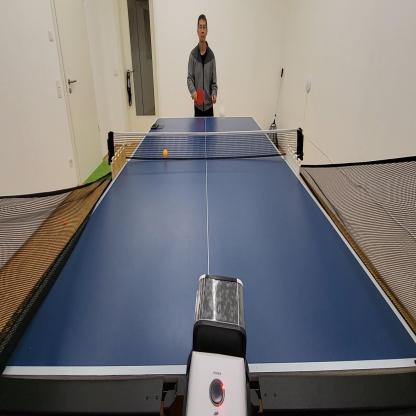Ball: (219, 106, 226, 122), (162, 148, 168, 158), (63, 217, 67, 225)
